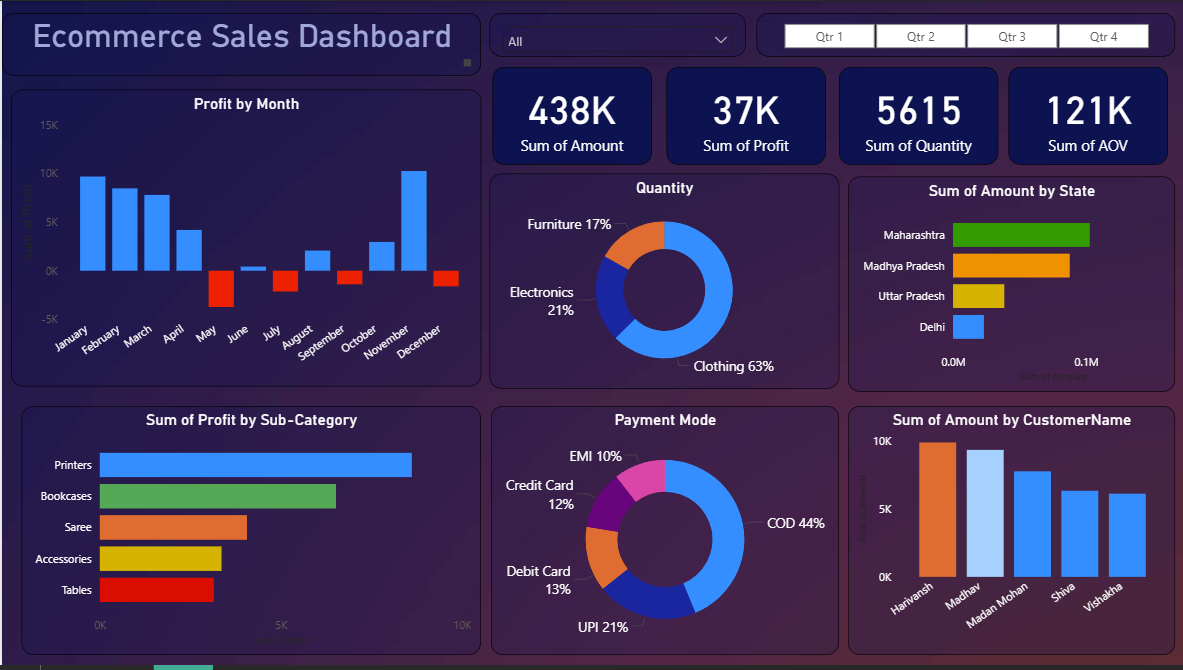

The page's visual inventory and layout, read from the dashboard file:
{"tool":"powerbi","page":{"name":"Page 1","canvas":[1280,720],"ordinal":0},"visuals":[{"type":"textbox","title":"Ecommerce Sales Dashboard","box":[0,13.3,519.3,68.2],"z":0},{"type":"columnChart","title":"Profit by Month","fields":{"Category":["Orders.Order Date.Variation.Date Hierarchy.Month"],"Y":["Details.Profit"]},"box":[9.5,96.7,509.9,322.2],"z":1000},{"type":"barChart","fields":{"Category":["Details.Sub-Category"],"Y":["Details.Profit"]},"box":[21.1,439.2,497.7,270],"z":2000},{"type":"donutChart","title":" Quantity","fields":{"Category":["Details.Category"],"Y":["Details.Quantity"]},"box":[528.8,187.6,379.1,233.1],"z":3000},{"type":"donutChart","title":" Payment Mode","fields":{"Y":["Details.Quantity"],"Category":["Details.PaymentMode"]},"box":[530.3,439.2,377.4,270],"z":4000},{"type":"card","fields":{"Values":["Details.Amount"]},"box":[532.6,72,172.5,106.1],"z":5000},{"type":"card","fields":{"Values":["Details.Profit"]},"box":[720.2,72,172.5,106.1],"z":6000},{"type":"card","fields":{"Values":["Details.Quantity"]},"box":[907.9,72,172.5,106.1],"z":7000},{"type":"card","fields":{"Values":["Details.AOV"]},"box":[1091.7,72,172.5,106.1],"z":8000},{"type":"barChart","fields":{"Category":["Orders.State"],"Y":["Details.Amount"]},"box":[917.4,189.5,354.4,233.1],"z":9000},{"type":"columnChart","fields":{"Category":["Orders.CustomerName"],"Y":["Details.Amount"]},"box":[917.4,439.2,354.6,270],"z":10000},{"type":"slicer","fields":{"Values":["Orders.Order Date.Variation.Date Hierarchy.Quarter"]},"box":[818.2,13,453.8,47.2],"z":11000},{"type":"slicer","fields":{"Values":["Orders.State"]},"box":[528.6,13,278.1,47.2],"z":11001}]}

Visuals, with their boxes in screenshot pixels (x1, y1, x2, y2), scaled from the page's 1280x720 canvas onto the 1183x670 screenshot:
"Ecommerce Sales Dashboard" textbox: bbox(0, 12, 480, 76)
"Profit by Month" columnChart: bbox(9, 90, 480, 390)
barChart - Details.Sub-Category x Details.Profit: bbox(20, 409, 479, 660)
" Quantity" donutChart: bbox(489, 175, 839, 391)
" Payment Mode" donutChart: bbox(490, 409, 839, 660)
card - Details.Amount: bbox(492, 67, 652, 166)
card - Details.Profit: bbox(666, 67, 825, 166)
card - Details.Quantity: bbox(839, 67, 999, 166)
card - Details.AOV: bbox(1009, 67, 1168, 166)
barChart - Orders.State x Details.Amount: bbox(848, 176, 1175, 393)
columnChart - Orders.CustomerName x Details.Amount: bbox(848, 409, 1176, 660)
slicer - Orders.Order Date.Variation.Date Hierarchy.Quarter: bbox(756, 12, 1176, 56)
slicer - Orders.State: bbox(489, 12, 746, 56)
